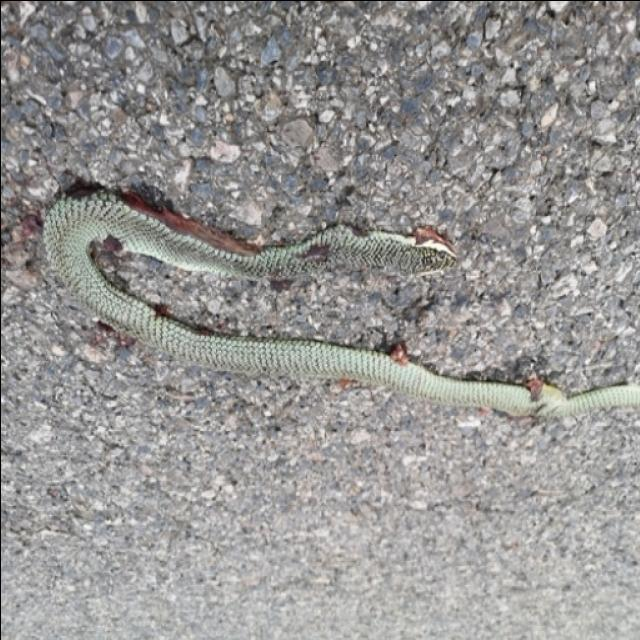snake: (42, 178, 634, 430)
